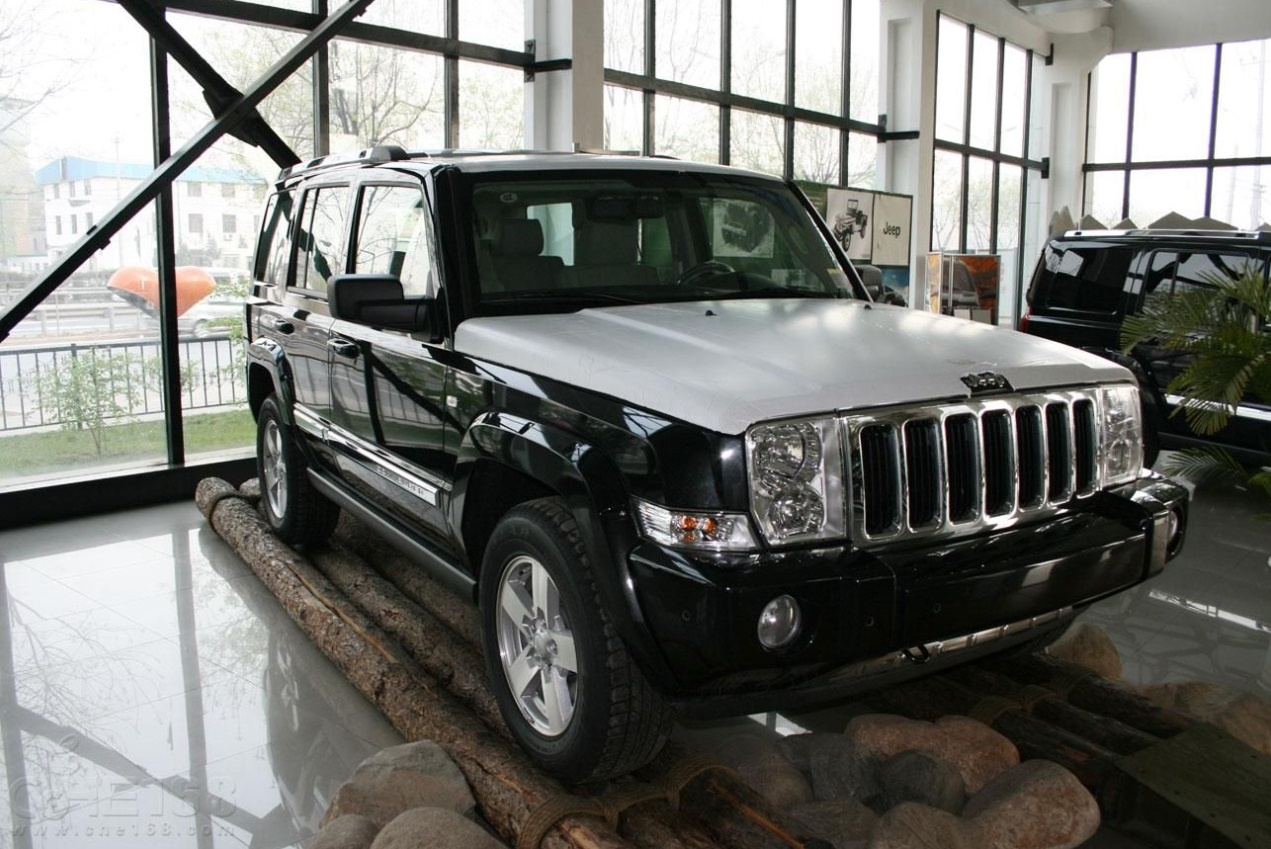jeep: (242, 140, 1184, 776)
